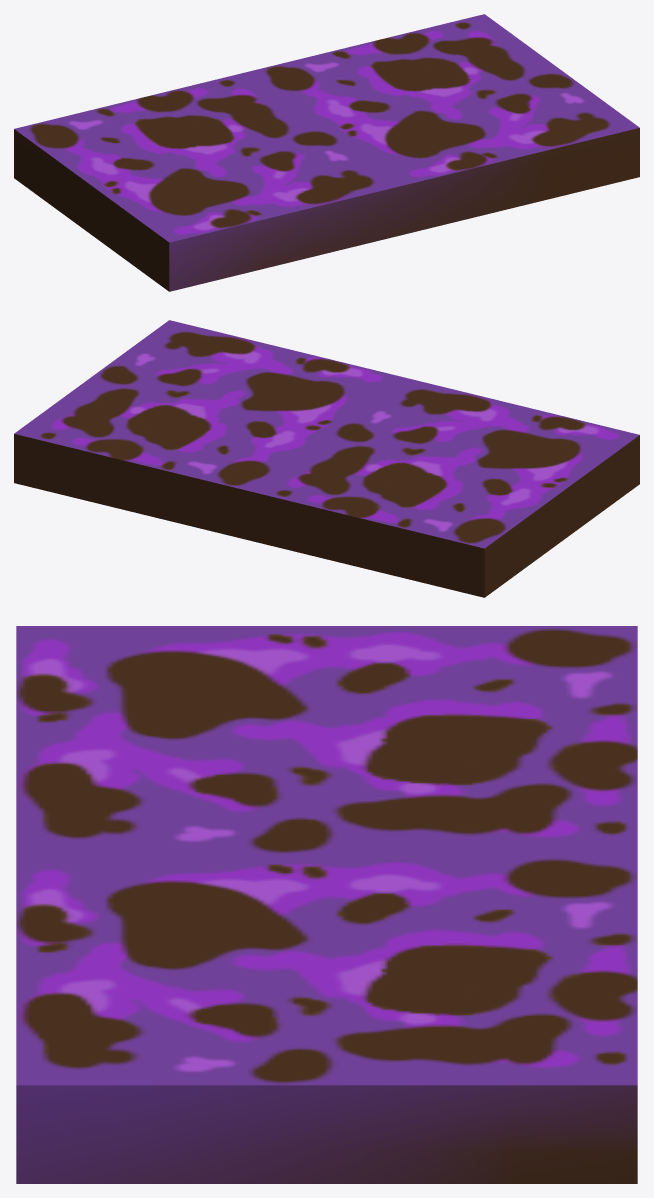
The model's file is lavaCube4.fbx.
The picture shows the model from 3 angles, top to bottom: view 1: azimuth 30°, elevation 25°; view 2: azimuth 150°, elevation 25°; view 3: azimuth 270°, elevation 25°; orthographic projection. The views are drawn at different scales.
Visible parts, largest first — view 1: lavaCube4; view 2: lavaCube4; view 3: lavaCube4.
Boxes of the visible parts, bbox=[...] form: lavaCube4: bbox=[14, 14, 639, 291]; lavaCube4: bbox=[14, 320, 639, 597]; lavaCube4: bbox=[16, 626, 637, 1183].
Size of the model in its own units: 0.3498 by 0.035 by 0.2.
